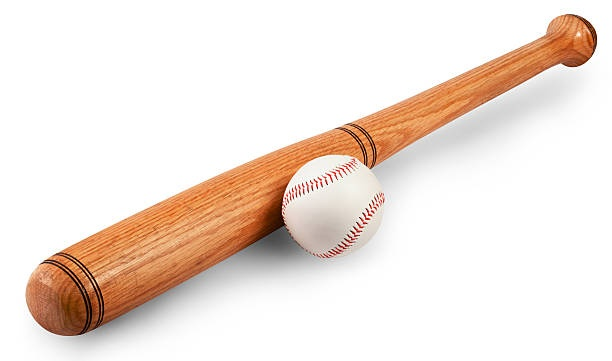bita: (26, 19, 595, 337)
